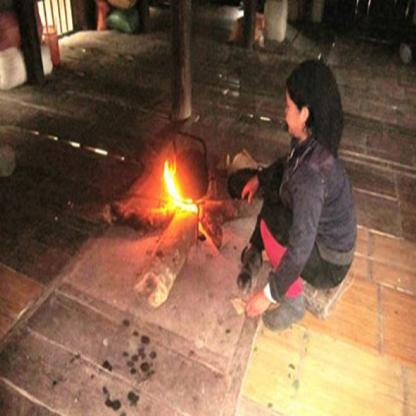fire: (162, 156, 199, 219)
